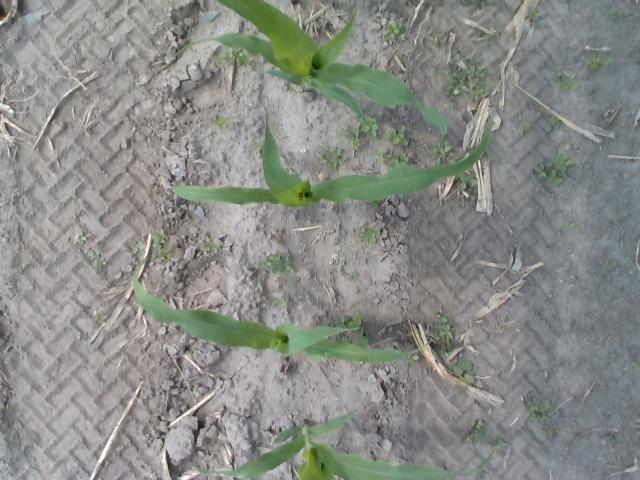Maize: (170, 1, 447, 152), (164, 101, 494, 208), (132, 256, 432, 363), (186, 409, 495, 480)
Weeds: (442, 62, 489, 98), (534, 154, 574, 185), (256, 253, 294, 274), (433, 312, 455, 344), (464, 420, 488, 442), (453, 360, 475, 382), (388, 123, 409, 146), (530, 400, 552, 420), (558, 72, 578, 92), (585, 54, 611, 68), (359, 116, 377, 136), (436, 146, 454, 164), (88, 250, 106, 267), (152, 229, 166, 250), (333, 149, 348, 168), (204, 237, 220, 254), (459, 174, 477, 188), (428, 35, 446, 49), (214, 115, 234, 127), (384, 22, 401, 36), (212, 55, 230, 68), (236, 54, 252, 67), (530, 11, 546, 24), (466, 51, 482, 64), (469, 0, 494, 8), (546, 118, 560, 132), (222, 46, 238, 58), (350, 133, 362, 149), (394, 153, 410, 165), (348, 315, 365, 326), (455, 384, 468, 398), (132, 242, 146, 255), (452, 43, 463, 59), (364, 229, 376, 243), (76, 232, 90, 244), (338, 125, 352, 136), (158, 251, 172, 262), (437, 344, 452, 354), (322, 150, 331, 166), (274, 296, 286, 308), (519, 124, 531, 135), (381, 150, 393, 160), (611, 8, 623, 18), (251, 139, 261, 150), (483, 36, 494, 46), (96, 313, 107, 323), (496, 440, 506, 450), (349, 270, 358, 280), (564, 221, 574, 230), (547, 427, 555, 438), (352, 234, 362, 242), (604, 262, 616, 268), (261, 296, 266, 308), (570, 142, 578, 148), (489, 26, 496, 32), (399, 34, 404, 41)
